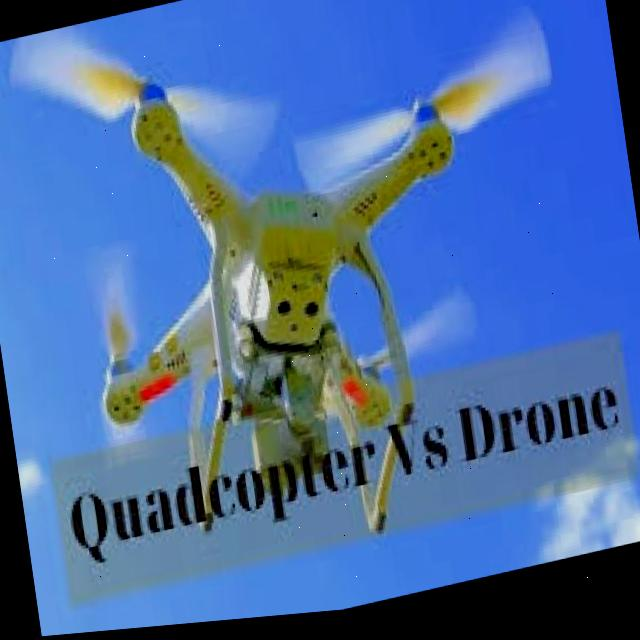drone: (0, 0, 610, 614)
